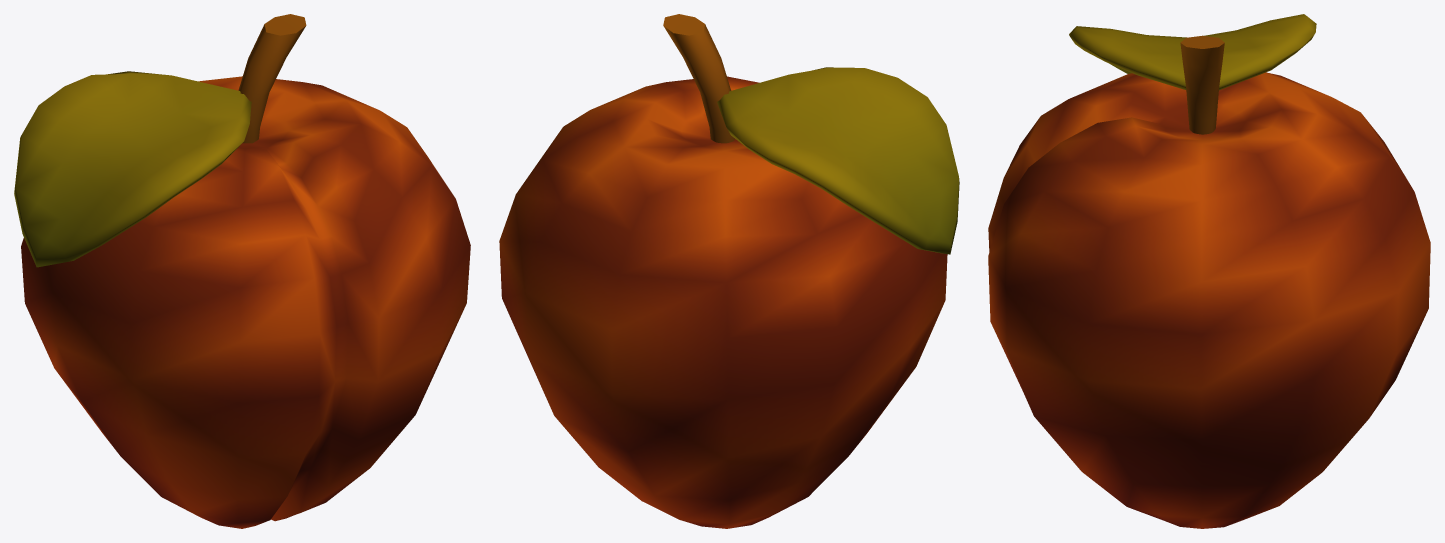
The model's file is Farm_Tree_Product_Peach_01_Rotten.fbx.
3 renders of one model, left to right at view 1: azimuth 30°, elevation 25°; view 2: azimuth 150°, elevation 25°; view 3: azimuth 270°, elevation 25°, orthographic. The views are drawn at different scales.
Parts seen in each view (by area): view 1: Farm_Tree_Product_Peach_01_Rotten; view 2: Farm_Tree_Product_Peach_01_Rotten; view 3: Farm_Tree_Product_Peach_01_Rotten.
Part boxes in pixels (x1=…): Farm_Tree_Product_Peach_01_Rotten: x1=14, y1=14, x2=470, y2=528; Farm_Tree_Product_Peach_01_Rotten: x1=499, y1=14, x2=959, y2=528; Farm_Tree_Product_Peach_01_Rotten: x1=988, y1=14, x2=1430, y2=528.
Size of the model in its own units: 32.47 by 36.11 by 29.54.
